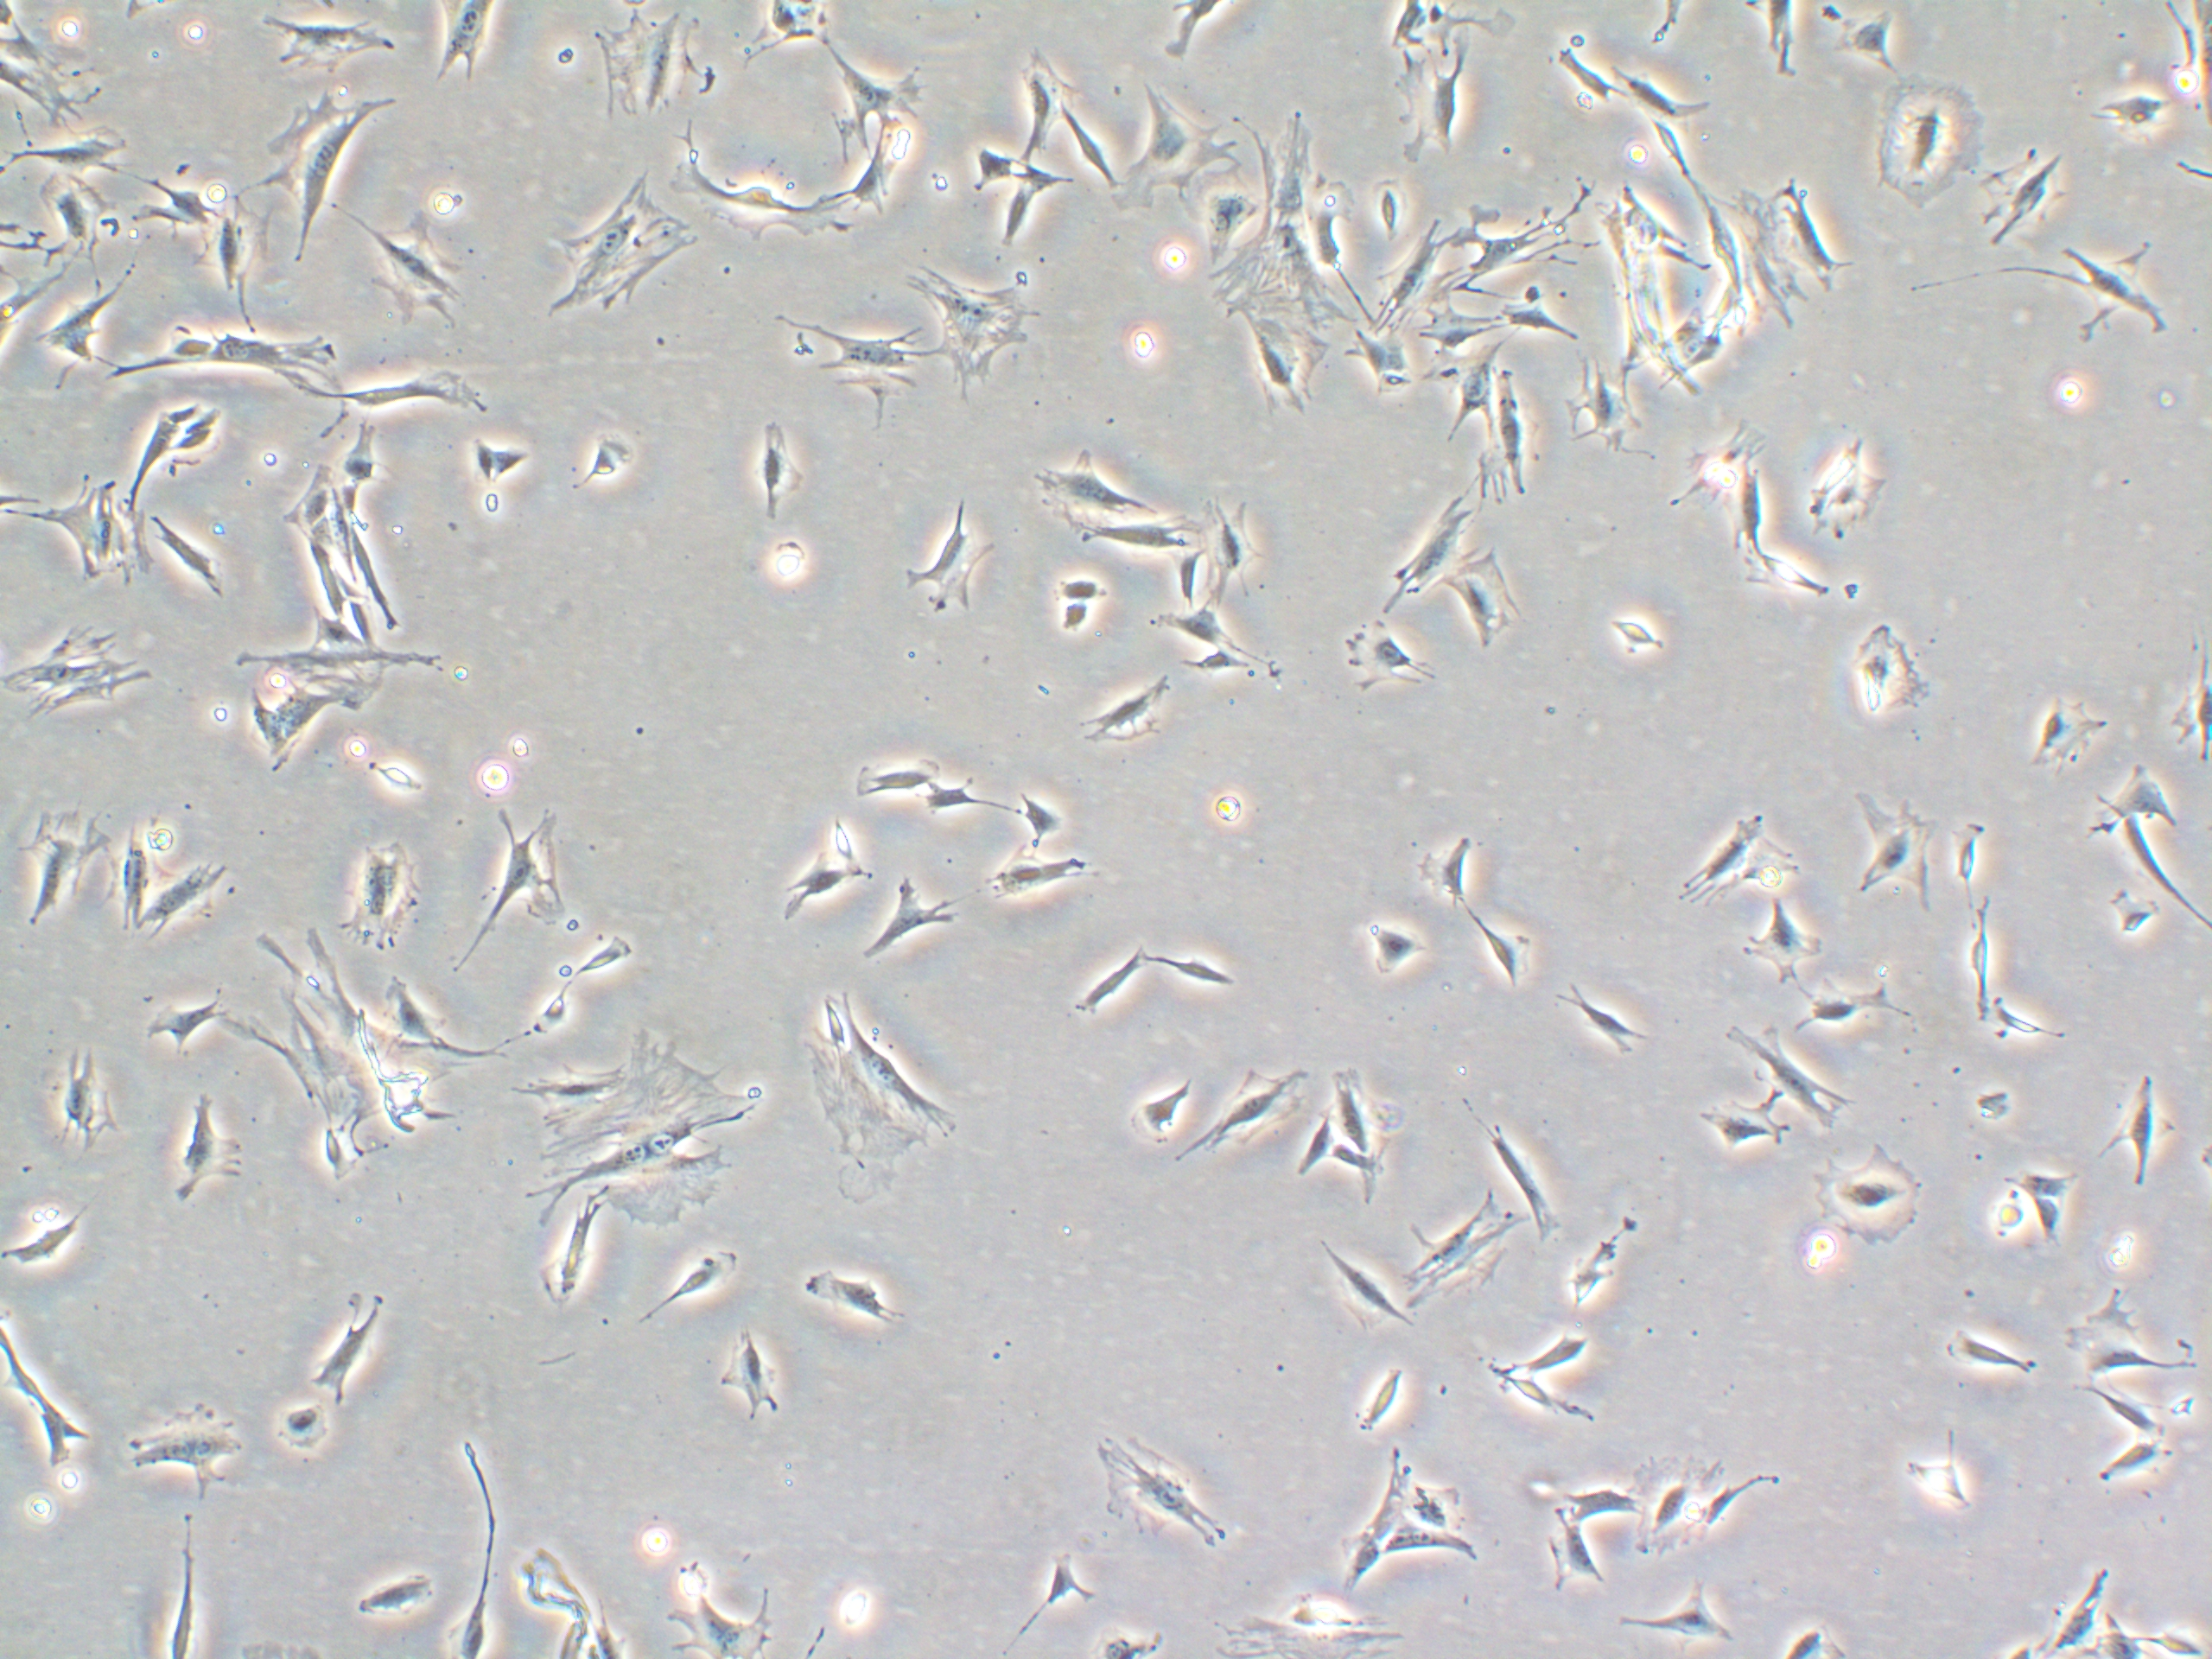small: (1559, 584, 1670, 673), (564, 422, 643, 505), (1345, 1361, 1416, 1436), (1367, 917, 1435, 995), (261, 1394, 331, 1462), (561, 929, 644, 981), (1035, 554, 1116, 605), (512, 978, 577, 1039), (1359, 173, 1411, 246), (907, 777, 991, 821), (362, 756, 432, 807), (307, 1127, 362, 1190), (820, 805, 866, 863), (1015, 784, 1059, 840), (1047, 599, 1104, 640)
spread: (219, 927, 503, 1147), (500, 1032, 772, 1234), (796, 983, 967, 1218), (254, 84, 395, 272), (531, 166, 697, 324), (223, 608, 449, 723), (1681, 185, 1824, 354), (1082, 1420, 1242, 1567), (0, 474, 174, 599), (1106, 66, 1231, 239), (1197, 200, 1355, 329), (1878, 63, 1993, 237), (902, 265, 1036, 404), (792, 310, 927, 436), (1831, 781, 1947, 922), (1200, 310, 1332, 432), (0, 627, 167, 723), (1796, 1140, 1935, 1255), (355, 207, 482, 331), (582, 7, 707, 129), (1021, 444, 1148, 561), (1402, 1190, 1527, 1307), (324, 826, 432, 960), (19, 796, 113, 946), (1547, 342, 1662, 462), (1437, 542, 1540, 659), (1848, 619, 1937, 742), (1174, 155, 1263, 277), (1249, 105, 1318, 242), (35, 174, 113, 272)
